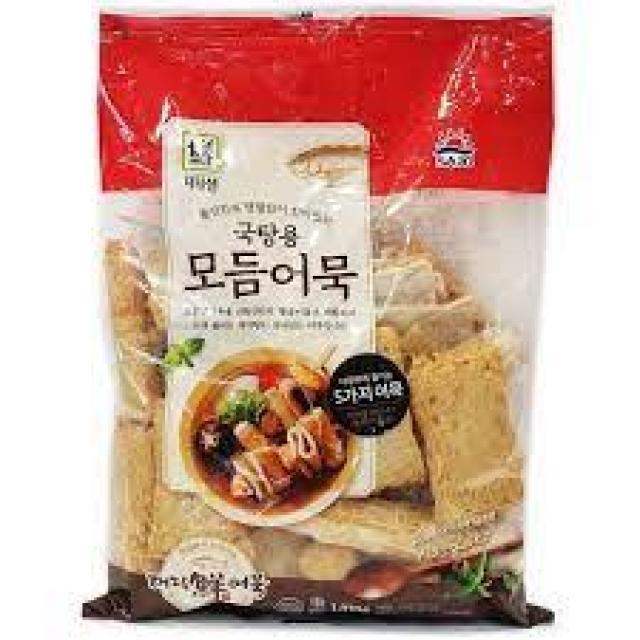fish_cake: (95, 0, 562, 637)
